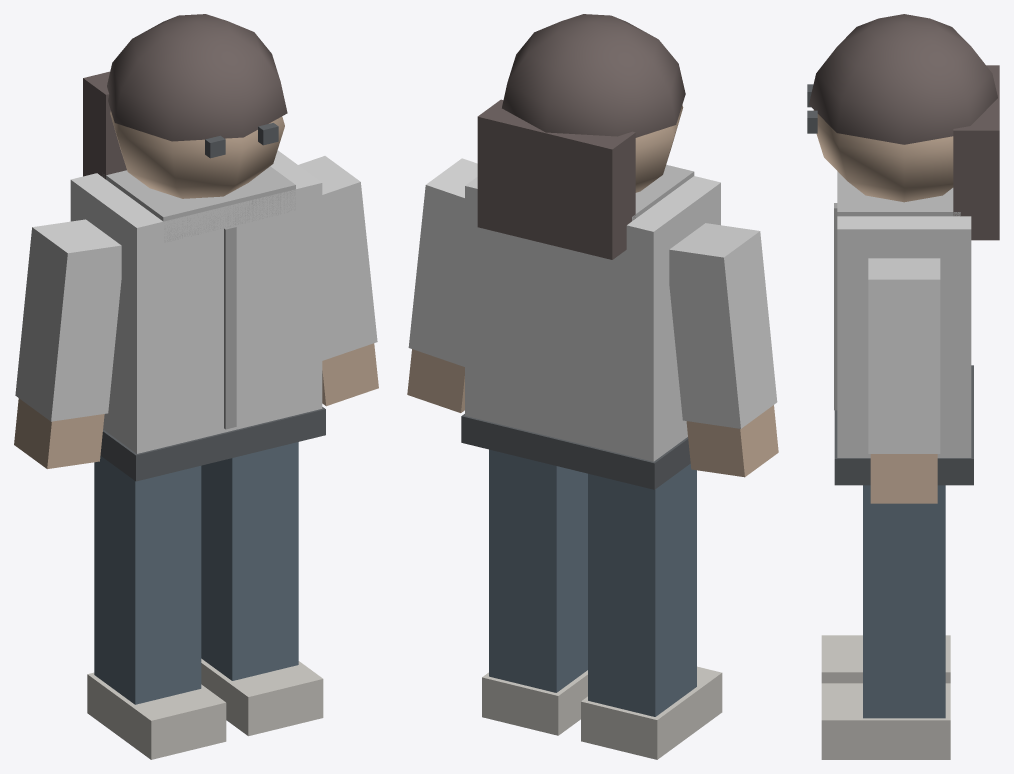
Rendered from walker_8.glb.
3 renders of one model, left to right at view 1: azimuth 30°, elevation 25°; view 2: azimuth 150°, elevation 25°; view 3: azimuth 270°, elevation 25°, orthographic.
Parts seen in each view (by area): view 1: walker_8; view 2: walker_8; view 3: walker_8.
Part boxes in pixels (x1,y1,x2,y2): walker_8: (14, 14, 378, 759); walker_8: (407, 14, 778, 759); walker_8: (807, 14, 999, 759).
Size of the model in its own units: 0.7512 by 1.49 by 0.373.
